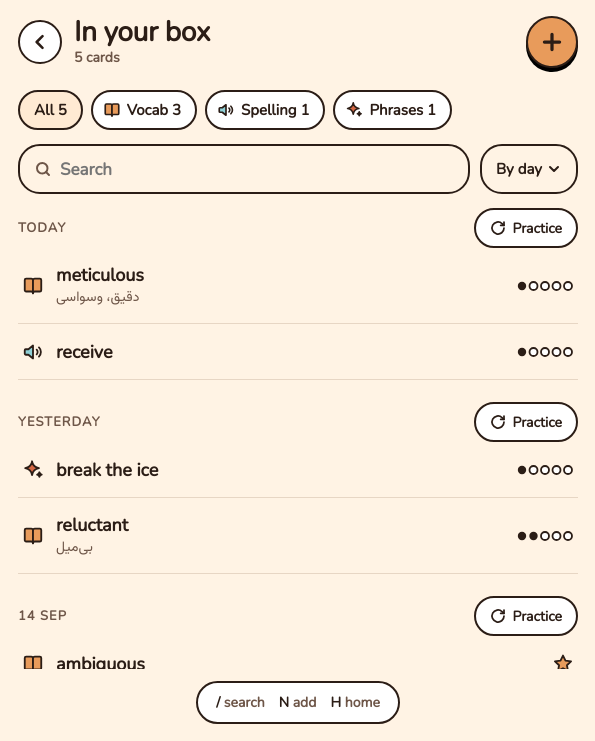
Test: AllWordsScreen (canvas N8–N10) › search matches the word and the Persian (ي = ی, half-space ignored)
Type "دقي" into the search field named "Search words". click: (257, 169)
box: [60,146,454,192]
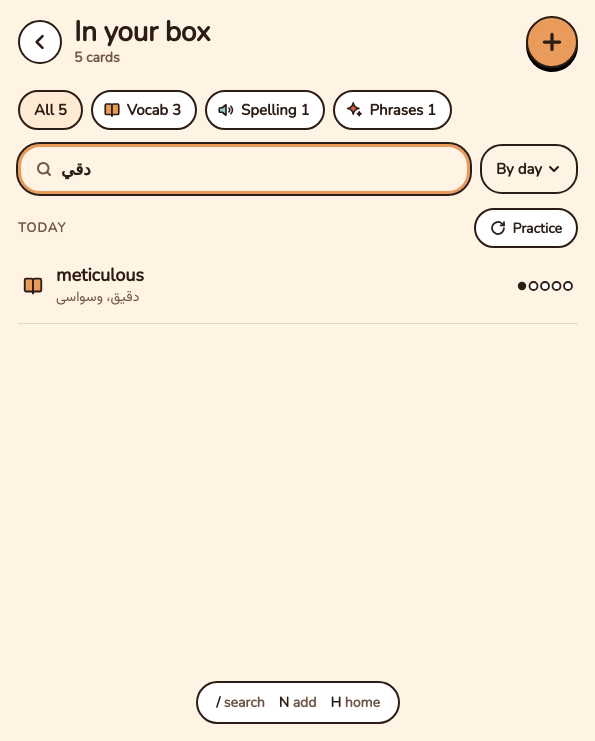
Replace the text in the search field with "بیمیل". click: (257, 169)
box: [61,146,453,192]
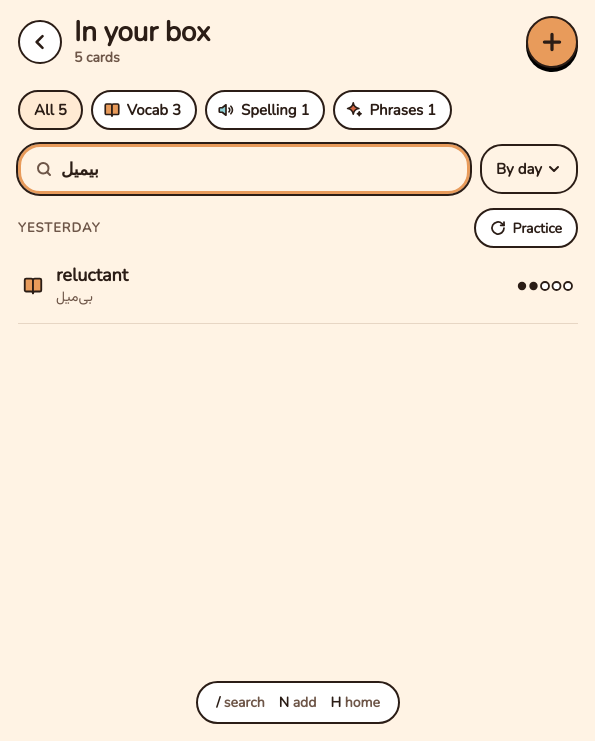
Replace the text in the search field with "zzz". click: (257, 169)
box: [61,146,453,192]
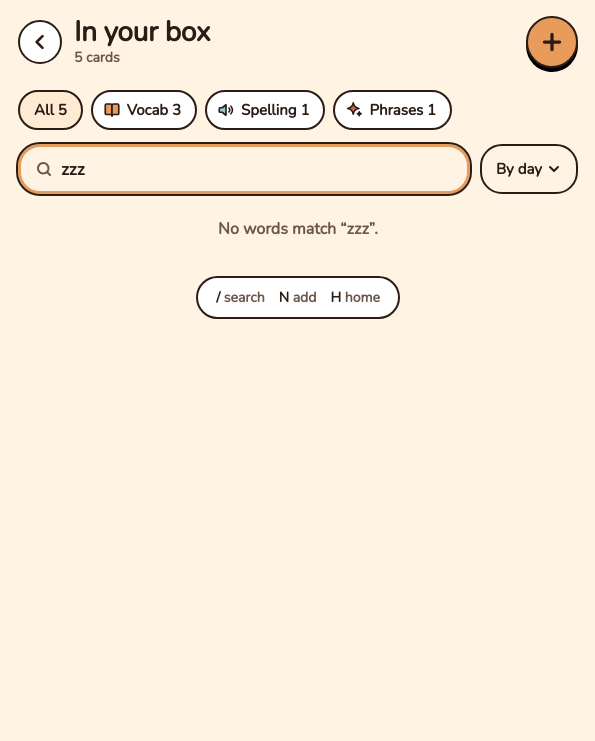
Expected: the text "No words match “zzz”." is shown, [218,218,378,240]
